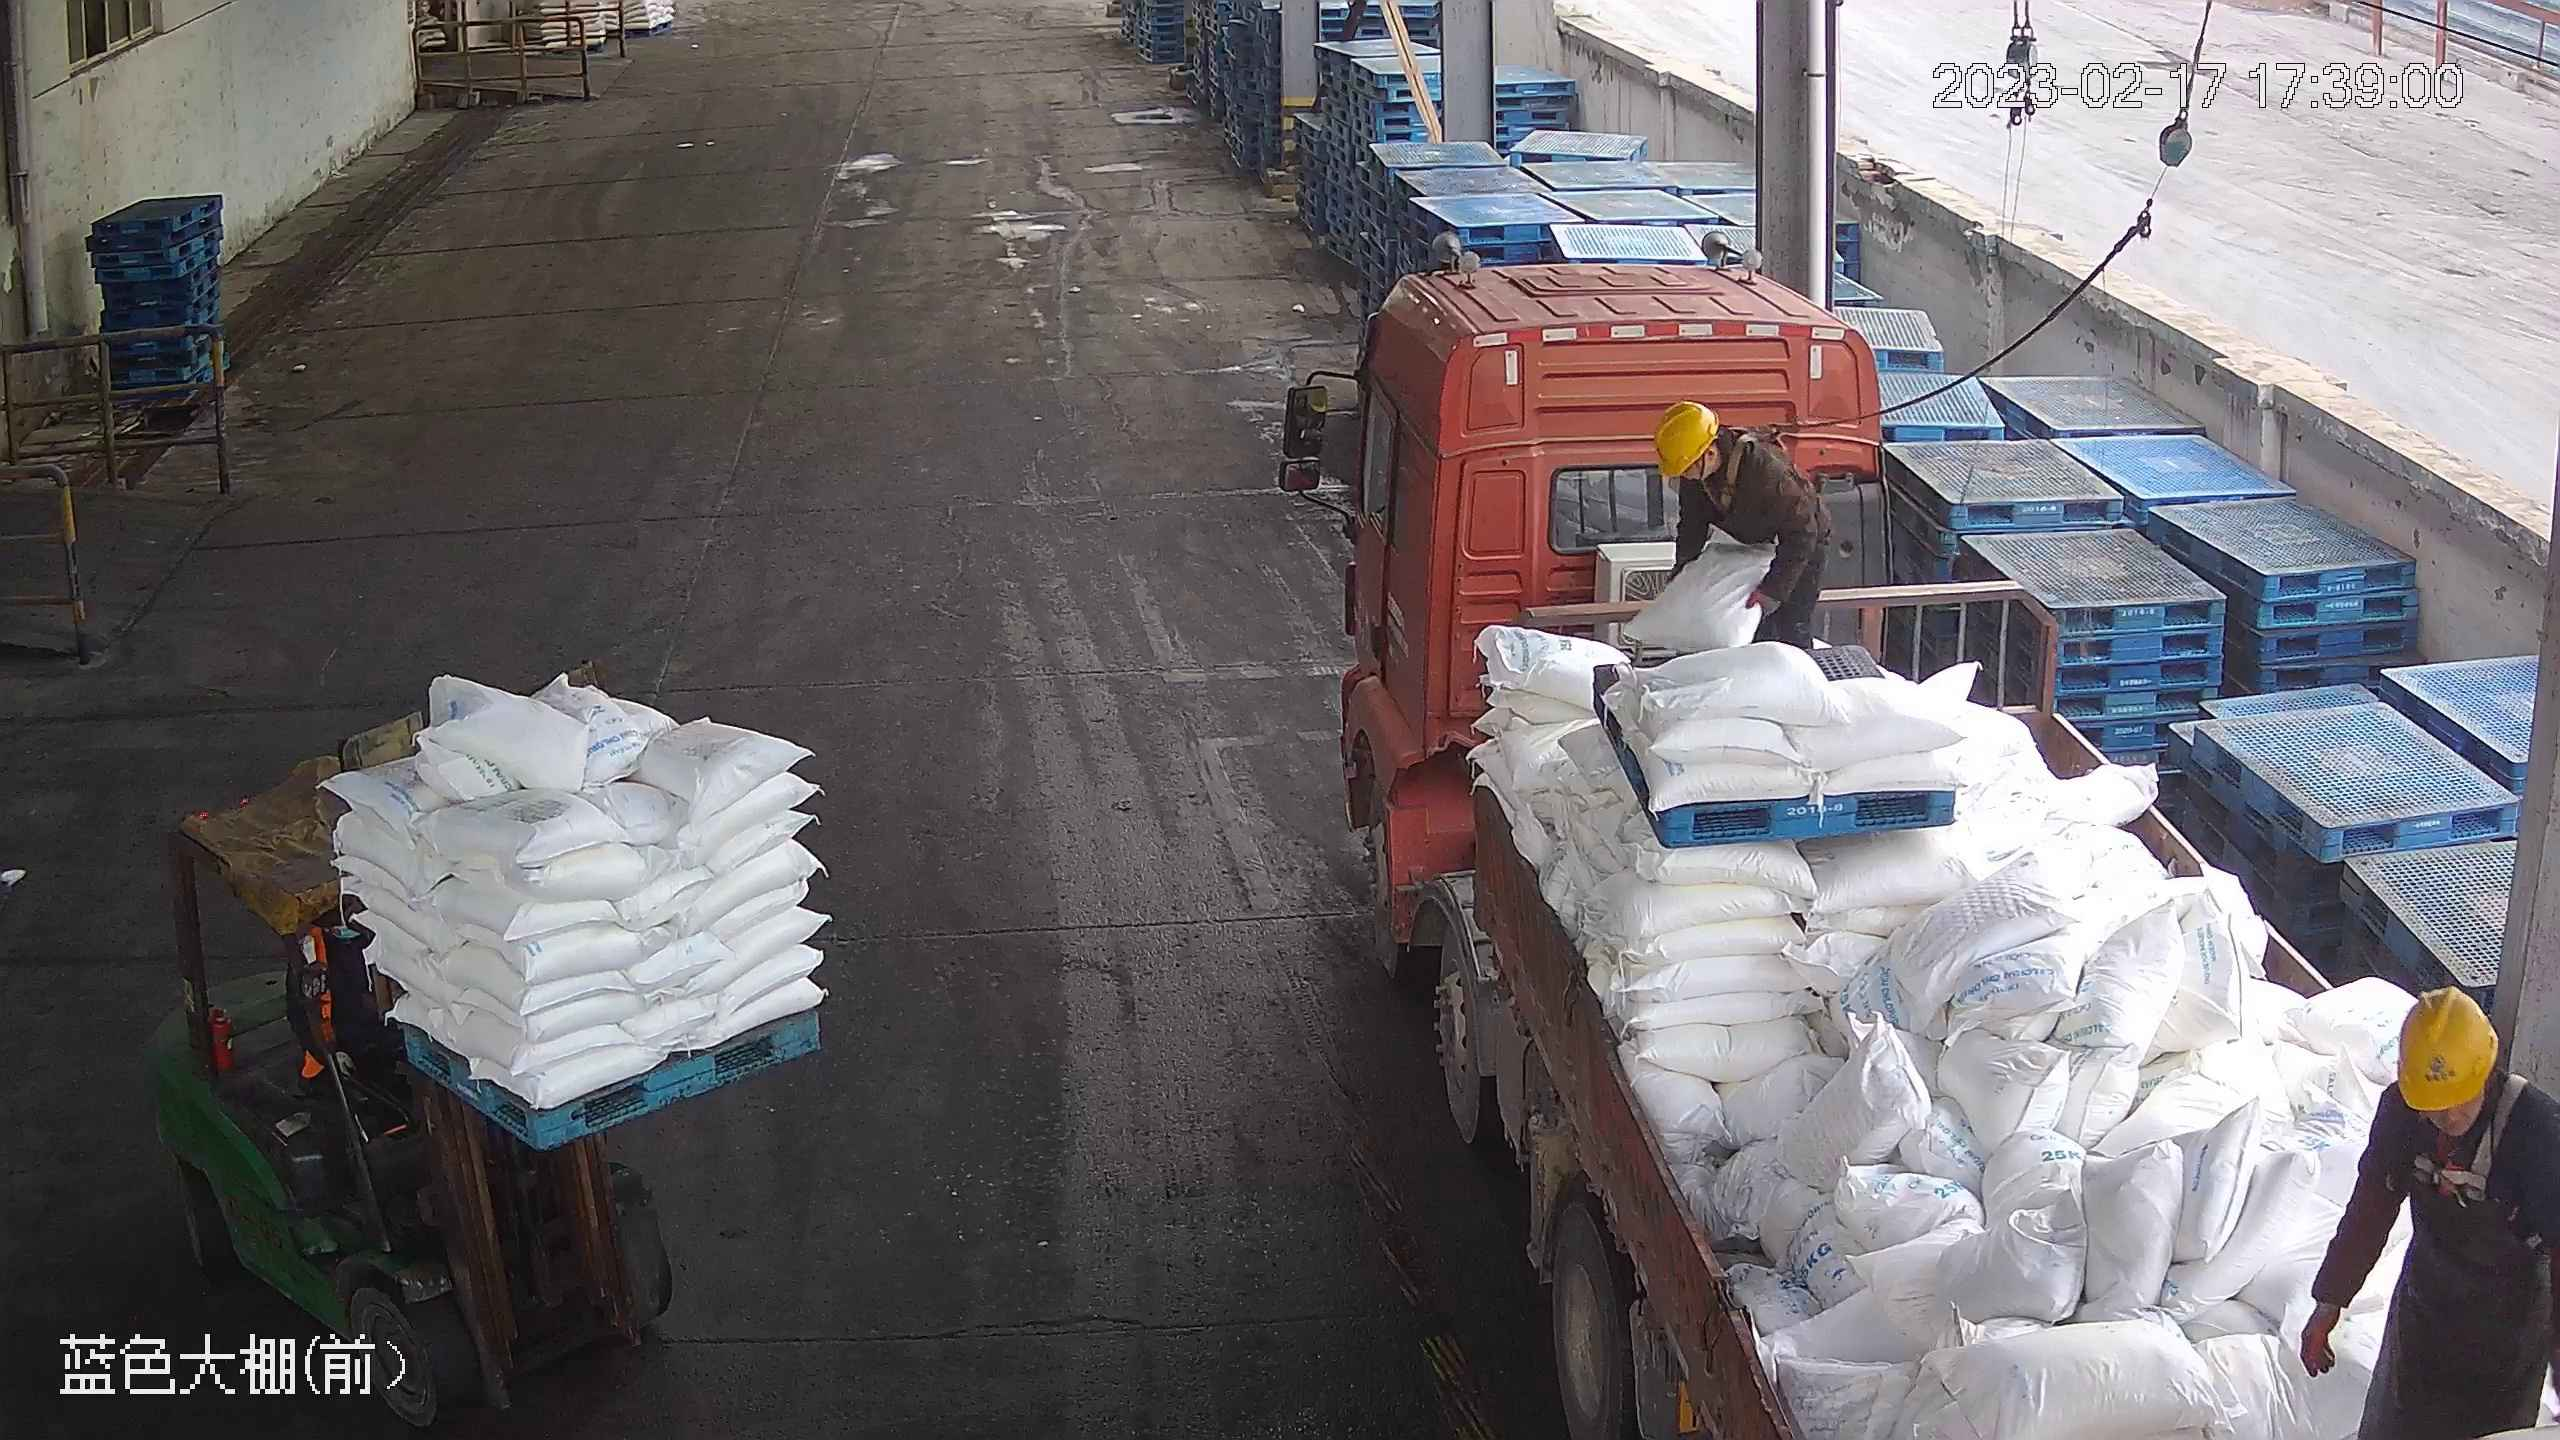belt: (2399, 1068, 2534, 1199), (1707, 412, 1797, 499)
head: (2355, 981, 2560, 1198), (1652, 396, 1786, 509)
helmet: (2391, 984, 2502, 1112), (1652, 397, 1720, 479)
people: (2300, 982, 2560, 1436), (1631, 395, 1838, 663)
truck: (1295, 201, 2558, 1440)
